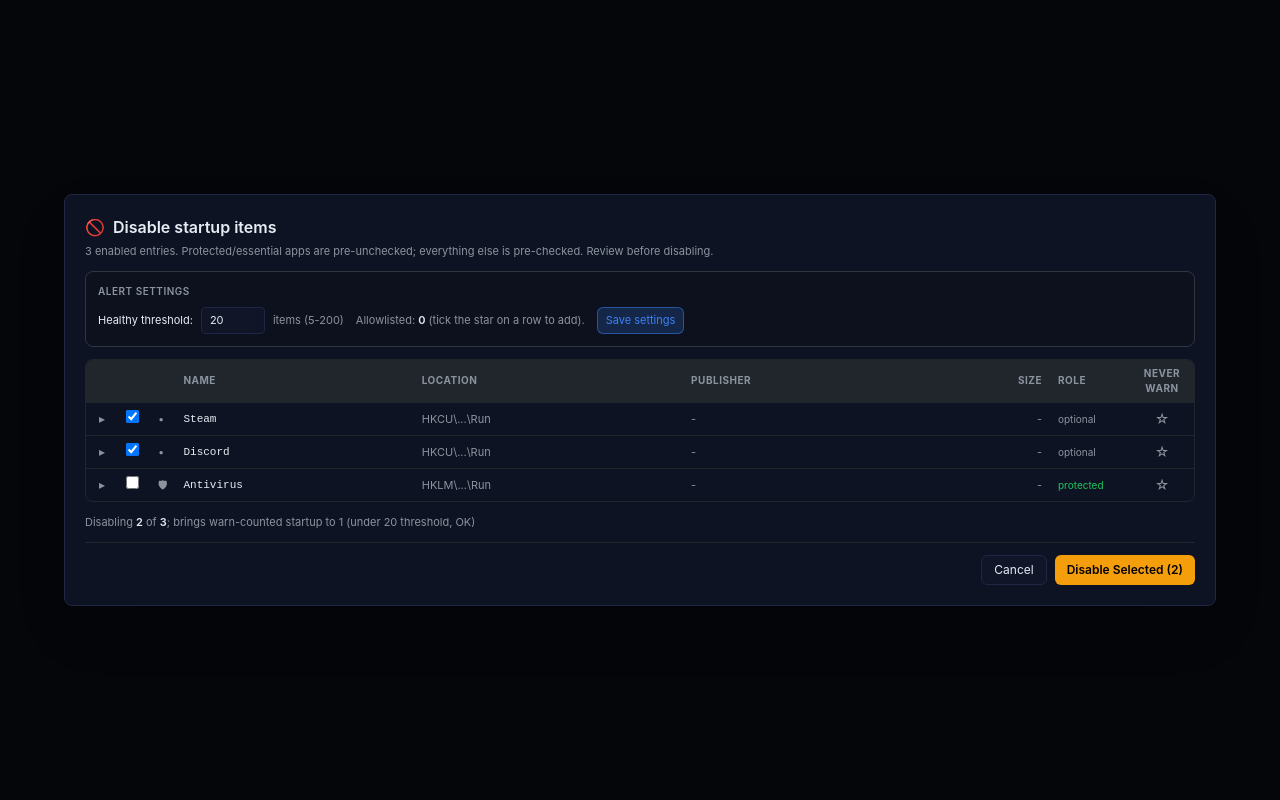
Test: <StartupPickerModal> v2.4.13 — threshold + allowlist › shows error text when threshold is invalid on save (below MIN)
Step 1. Replace the text in the number field named "Healthy startup threshold" with "1" → (233, 321), box [201,307,265,334]
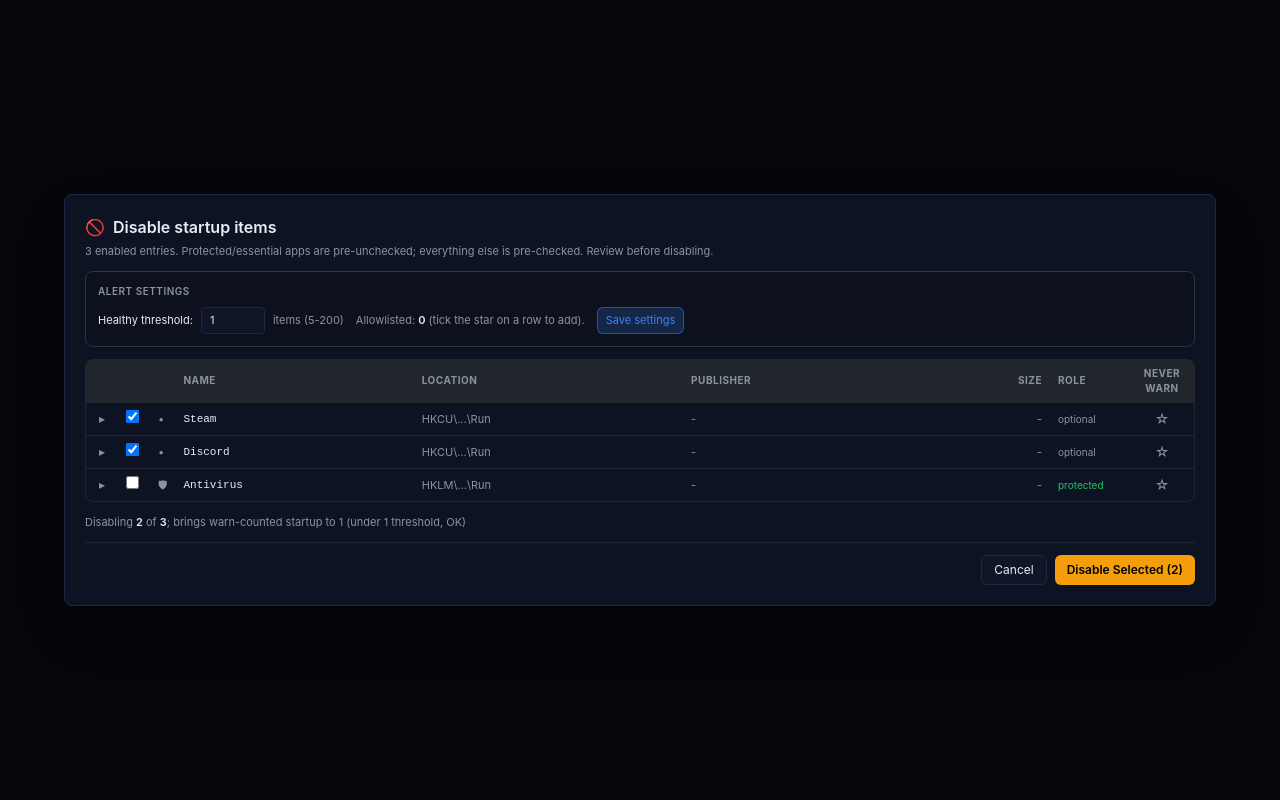
Step 2. Click the button "Save settings" → (641, 321), box [597,307,684,334]
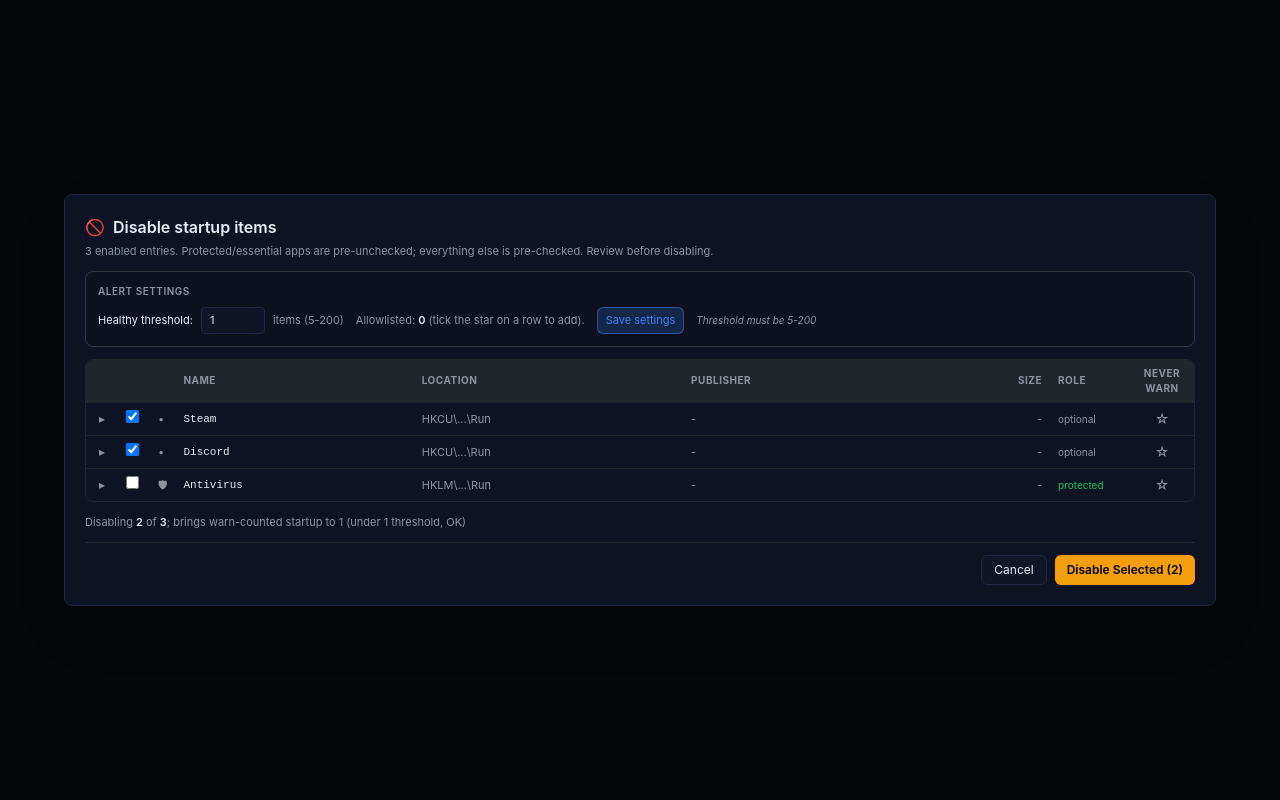
Expected: the text "Threshold must be 5-200" is shown, [696,313,816,328]
